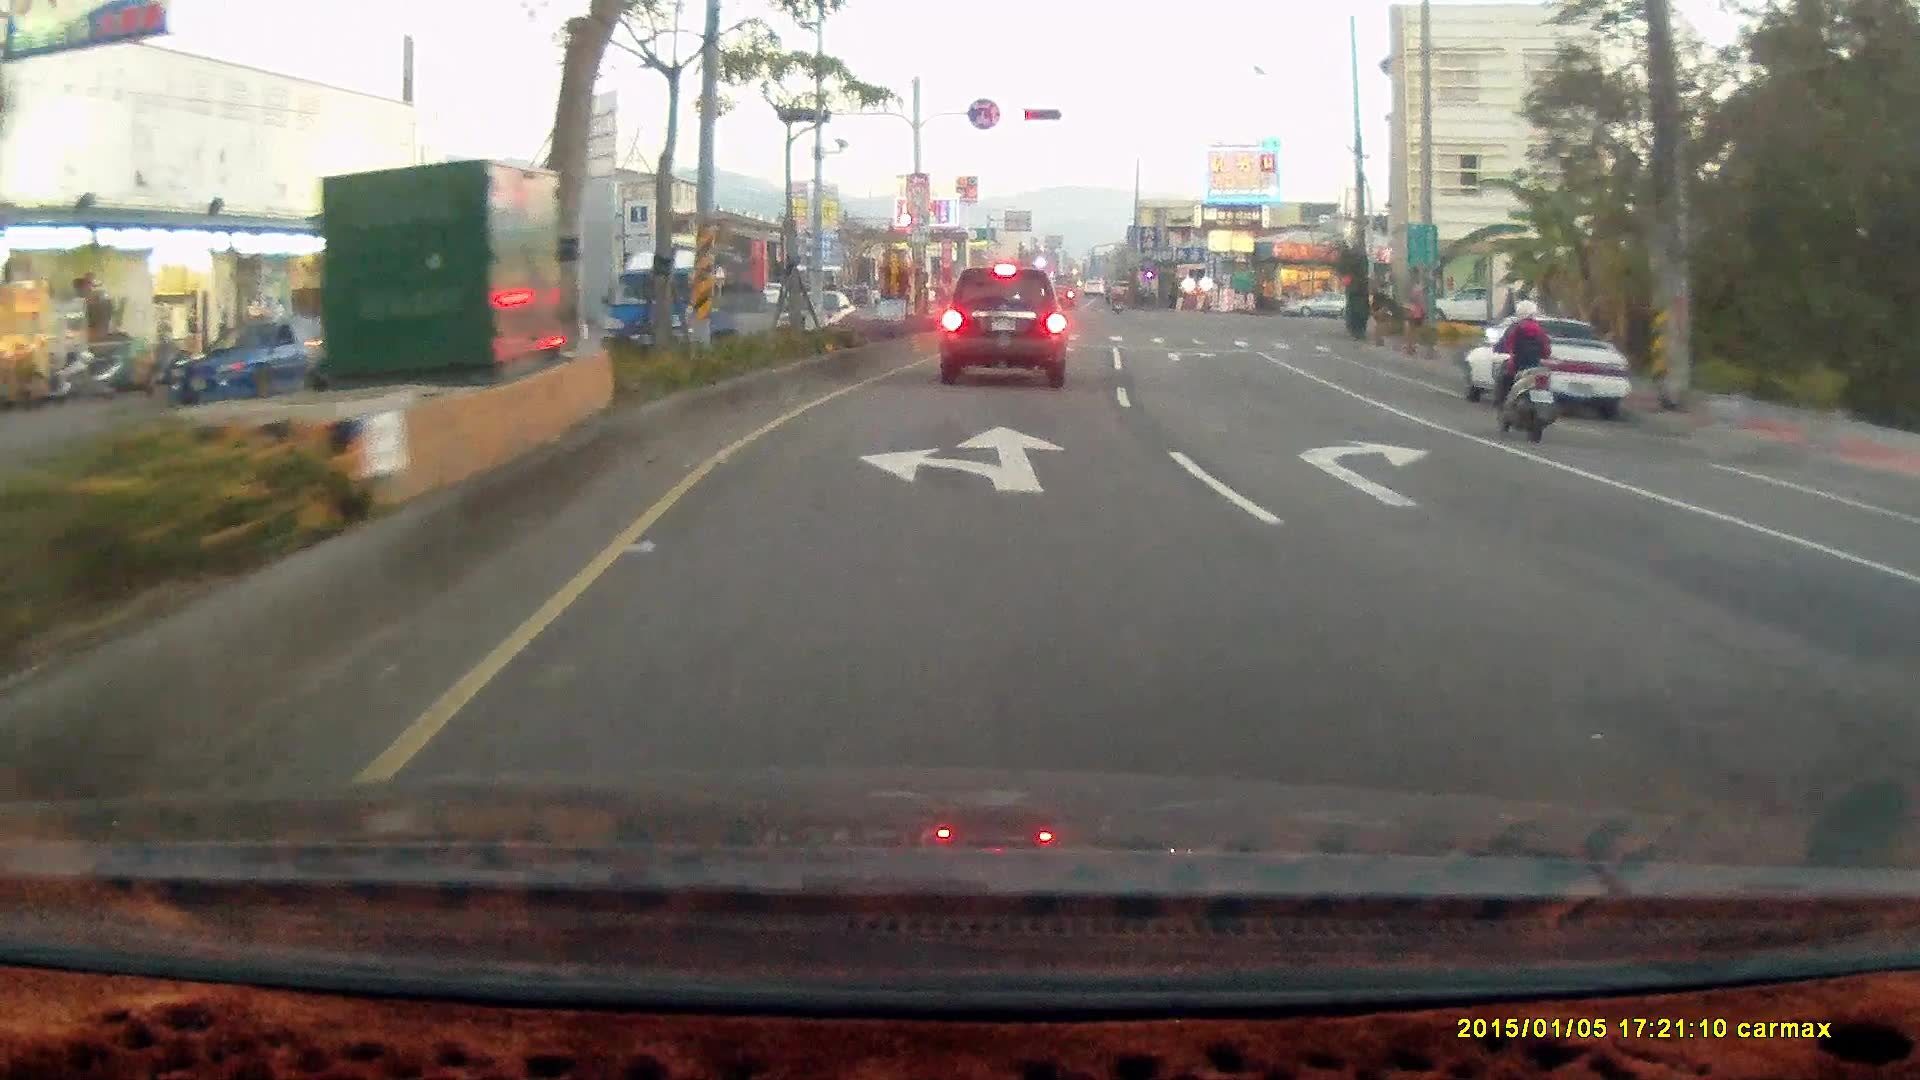rider: (1480, 298, 1559, 443)
vehicle: (1459, 313, 1630, 422), (1470, 322, 1636, 420), (597, 247, 742, 357), (938, 268, 1066, 388), (167, 318, 333, 402), (1896, 493, 1920, 836), (1883, 528, 1920, 690), (1420, 283, 1518, 328), (1280, 290, 1359, 317)
